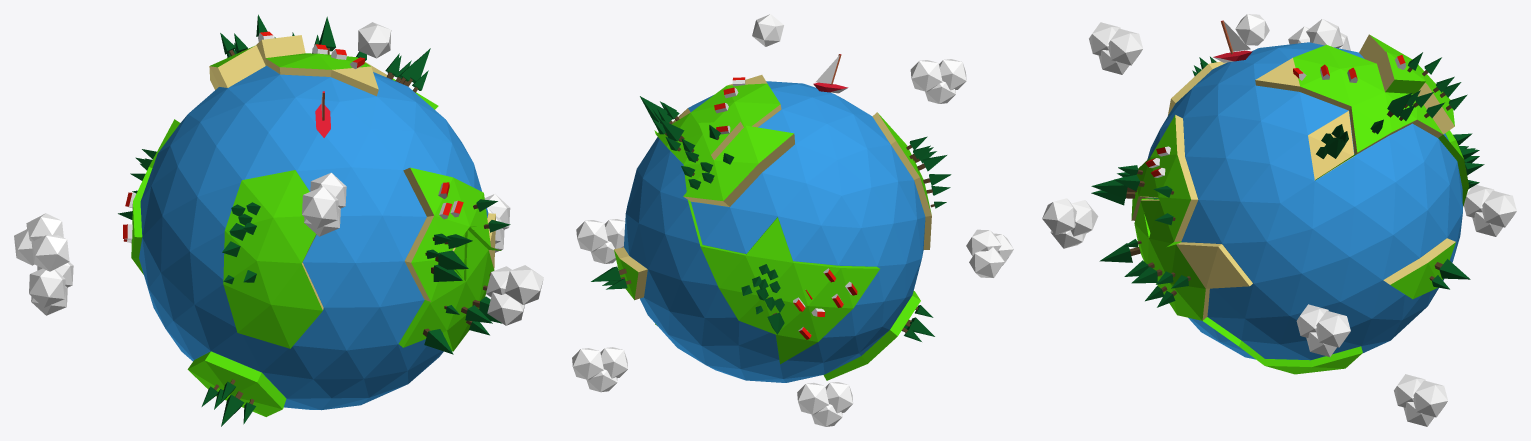
File: planet.gltf
3 renders of one model, left to right at view 1: azimuth 30°, elevation 25°; view 2: azimuth 150°, elevation 25°; view 3: azimuth 270°, elevation 25°, orthographic. The views are drawn at different scales.
Parts seen in each view (by area): view 1: Icosphere.001, Icosphere, Icosphere.004, Icosphere.010, Icosphere.017, Icosphere.020, Icosphere.002, Icosphere.019, Icosphere.015, Icosphere.005, Icosphere.016, Icosphere.018; view 2: Icosphere.001, Icosphere, Icosphere.005, Icosphere.008, Icosphere.011, Icosphere.014, Icosphere.016, Icosphere.002, Icosphere.004, Icosphere.010, Icosphere.013, Icosphere.015 (+5 smaller); view 3: Icosphere.001, Icosphere, Icosphere.011, Icosphere.014, Icosphere.008, Icosphere.005, Icosphere.020, Icosphere.002, Icosphere.015, Plane.075, Icosphere.018, Icosphere.007 (+3 smaller).
Part boxes in pixels (x1,y1,x2,y2): Icosphere.001: (139, 65, 488, 410); Icosphere: (131, 35, 501, 416); Icosphere.004: (302, 186, 338, 228); Icosphere.010: (29, 268, 65, 307); Icosphere.017: (31, 234, 69, 271); Icosphere.020: (504, 265, 543, 304); Icosphere.002: (358, 22, 391, 58); Icosphere.019: (487, 292, 524, 325); Icosphere.015: (26, 213, 63, 241); Icosphere.005: (310, 172, 346, 208); Icosphere.016: (14, 229, 34, 265); Icosphere.018: (486, 266, 511, 296); Icosphere.001: (624, 81, 925, 382); Icosphere: (614, 75, 931, 380); Icosphere.005: (910, 60, 942, 91); Icosphere.008: (576, 220, 608, 251); Icosphere.011: (797, 382, 829, 414); Icosphere.014: (572, 348, 603, 379); Icosphere.016: (969, 247, 1004, 277); Icosphere.002: (752, 14, 783, 46); Icosphere.004: (939, 59, 966, 90); Icosphere.010: (825, 382, 853, 413); Icosphere.013: (600, 347, 627, 378); Icosphere.015: (966, 229, 1001, 256); Icosphere.001: (1147, 42, 1462, 360); Icosphere: (1131, 34, 1468, 374); Icosphere.011: (1482, 190, 1516, 227); Icosphere.014: (1413, 380, 1447, 417); Icosphere.008: (1316, 310, 1350, 347); Icosphere.005: (1108, 28, 1142, 65); Icosphere.020: (1042, 198, 1076, 234); Icosphere.002: (1235, 14, 1269, 45); Icosphere.015: (1306, 19, 1343, 48); Plane.075: (1213, 20, 1252, 62); Icosphere.018: (1071, 200, 1098, 236); Icosphere.007: (1296, 304, 1328, 337).
Bounding box in the file's own units: 25.58 × 19.51 × 23.02.
